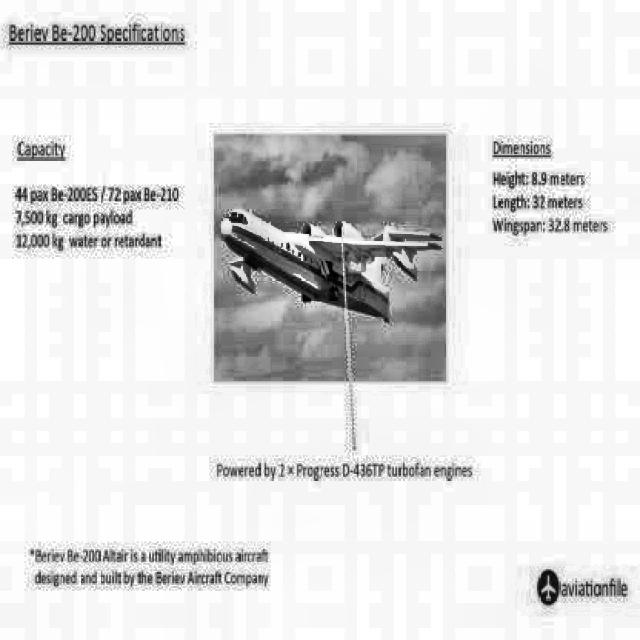Be200: (220, 208, 442, 323)
